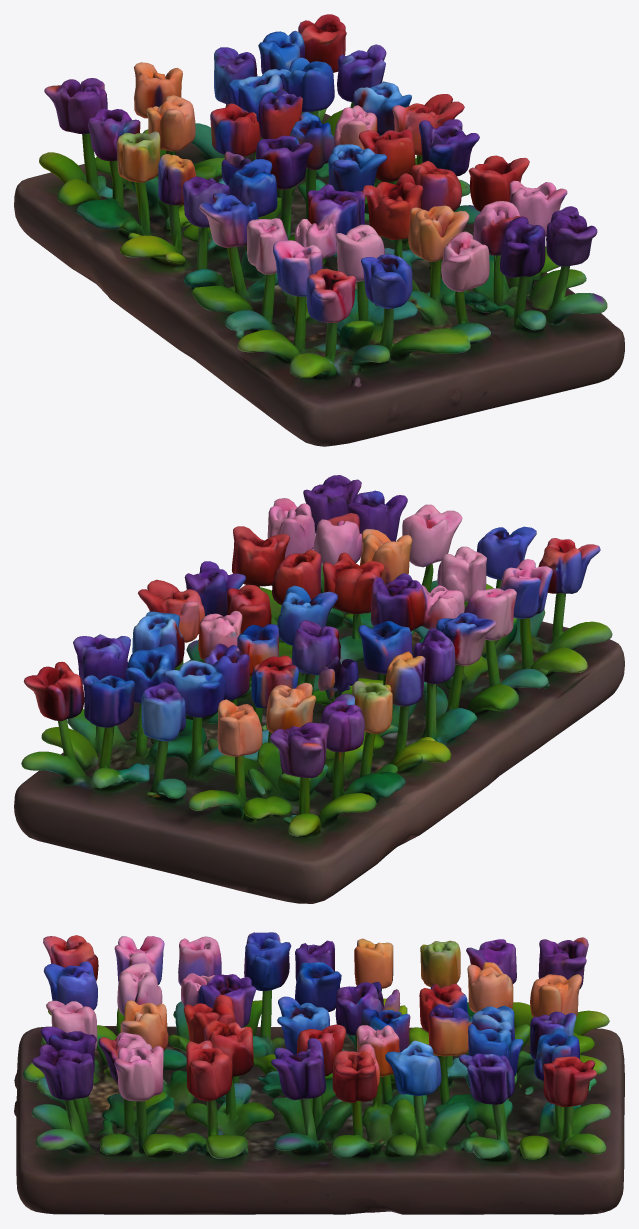
The model's file is nature-flower-tulip.glb.
The picture shows the model from 3 angles, top to bottom: view 1: azimuth 30°, elevation 25°; view 2: azimuth 150°, elevation 25°; view 3: azimuth 270°, elevation 25°; orthographic projection. The views are drawn at different scales.
Parts seen in each view (by area): view 1: tripo_node_69de39ff-08dc-4920-b540-d4ec4d6c0f2e; view 2: tripo_node_69de39ff-08dc-4920-b540-d4ec4d6c0f2e; view 3: tripo_node_69de39ff-08dc-4920-b540-d4ec4d6c0f2e.
Part boxes in pixels (box(x1,y1,x2,y2)): tripo_node_69de39ff-08dc-4920-b540-d4ec4d6c0f2e: box(14, 14, 624, 446); tripo_node_69de39ff-08dc-4920-b540-d4ec4d6c0f2e: box(14, 475, 624, 903); tripo_node_69de39ff-08dc-4920-b540-d4ec4d6c0f2e: box(14, 932, 624, 1214).
Bounding box in the file's own units: 1.36 × 0.6001 × 2.18.
1 material, 1 textured.
